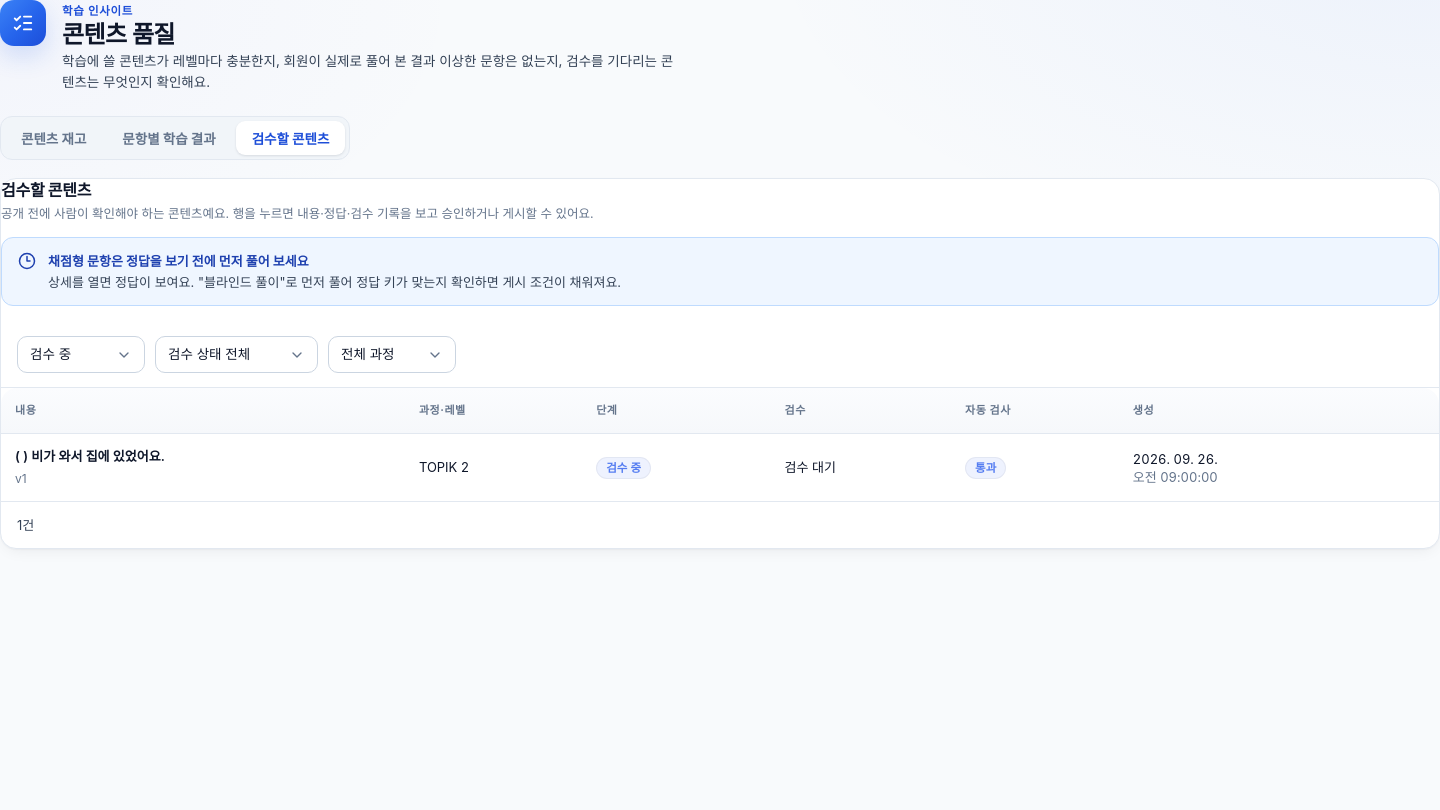
Test: ContentQualityPage › does not offer to publish a version the publication check blocks
What coordinates should you click on to do the following:
click the text "( ) 비가 와서 집에 있었어요."
I would click on:
 (90, 456)
Its box is [15,448,165,464].
(page scrolled)
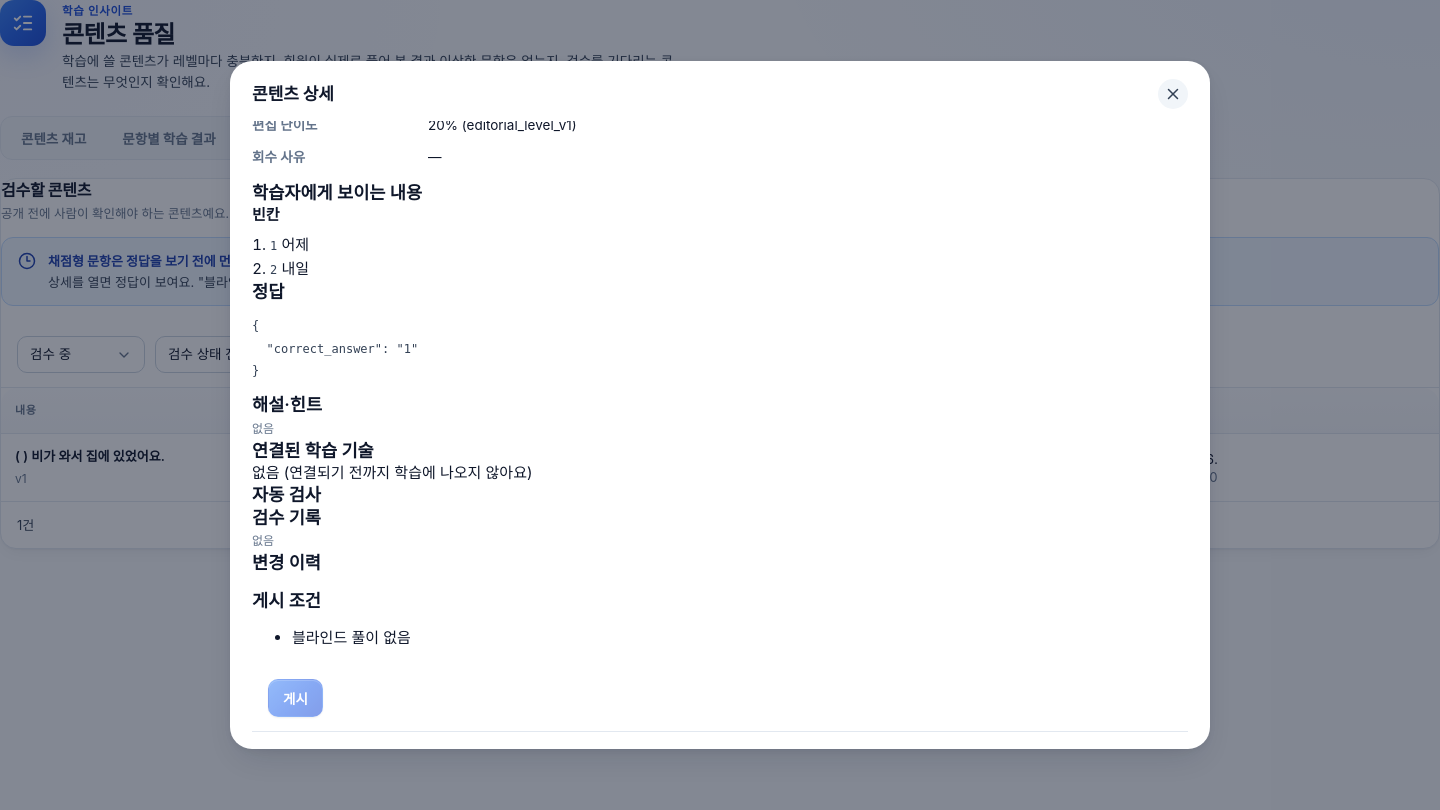
Expected: the list item "블라인드 풀이 없음" is shown, [292,628,411,647]
Expected: the button "게시" is disabled, [268,679,323,717]
